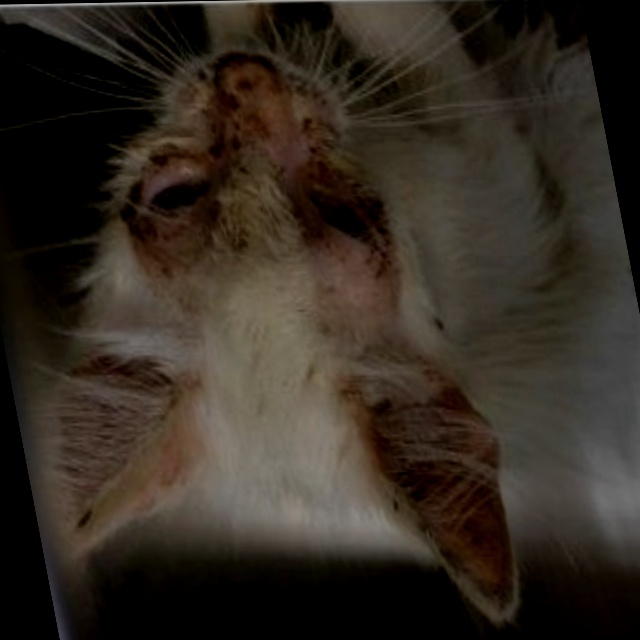ringworm: (291, 217, 390, 300), (197, 88, 287, 166), (121, 217, 213, 291), (296, 129, 351, 202)
